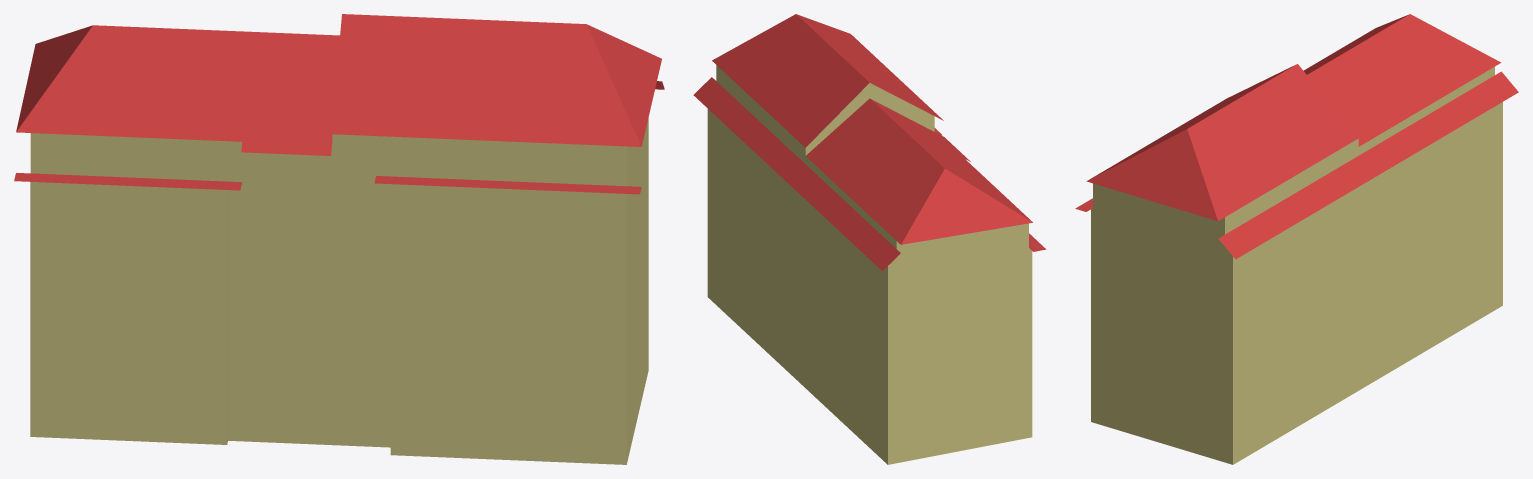
3 renders of one model, left to right at view 1: azimuth 30°, elevation 25°; view 2: azimuth 150°, elevation 25°; view 3: azimuth 270°, elevation 25°, orthographic. The views are drawn at different scales.
Parts seen in each view (by area): view 1: group_17, group_13, group_5, group_7, group_3, group_9, group_15, group_11, group_16, group_4, group_12; view 2: group_21, group_5, group_3, group_7, group_19, group_9, group_20, group_4, group_13; view 3: group_21, group_9, group_7, group_3, group_19, group_20, group_5.
Part boxes in pixels (left/top/right/bottom): group_17: left=390, top=184, right=626, bottom=464; group_13: left=30, top=182, right=227, bottom=444; group_5: left=30, top=133, right=332, bottom=444; group_7: left=331, top=14, right=661, bottom=146; group_3: left=30, top=25, right=339, bottom=155; group_9: left=332, top=122, right=647, bottom=462; group_15: left=374, top=176, right=641, bottom=194; group_11: left=14, top=173, right=241, bottom=190; group_16: left=375, top=176, right=640, bottom=193; group_4: left=16, top=44, right=318, bottom=155; group_12: left=14, top=173, right=240, bottom=190; group_21: left=707, top=109, right=896, bottom=464; group_5: left=805, top=156, right=1028, bottom=462; group_3: left=806, top=98, right=1027, bottom=244; group_7: left=712, top=14, right=943, bottom=147; group_19: left=707, top=81, right=900, bottom=270; group_9: left=716, top=65, right=934, bottom=163; group_20: left=693, top=77, right=881, bottom=270; group_4: left=897, top=145, right=1032, bottom=244; group_13: left=1029, top=248, right=1032, bottom=437; group_21: left=1225, top=102, right=1502, bottom=464; group_9: left=1093, top=138, right=1358, bottom=462; group_7: left=1086, top=64, right=1358, bottom=220; group_3: left=1304, top=14, right=1494, bottom=146; group_19: left=1225, top=71, right=1518, bottom=244; group_20: left=1218, top=93, right=1517, bottom=259; group_5: left=1358, top=66, right=1494, bottom=155.
Size of the model in its own units: 33.42 by 29.26 by 21.91.
